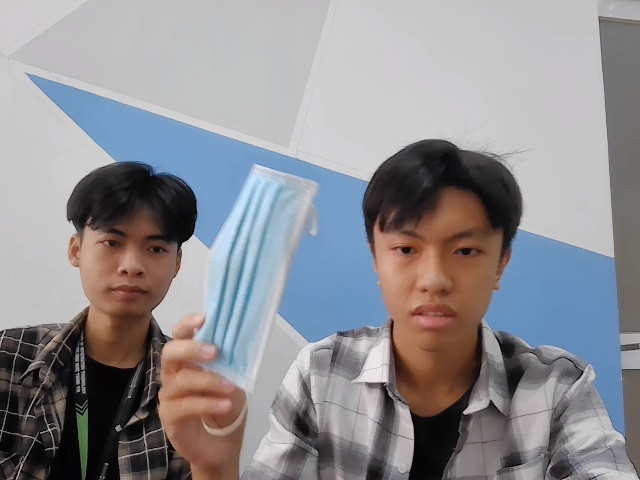human: (367, 141, 525, 342), (64, 156, 199, 314)
mask: (197, 157, 323, 398)
